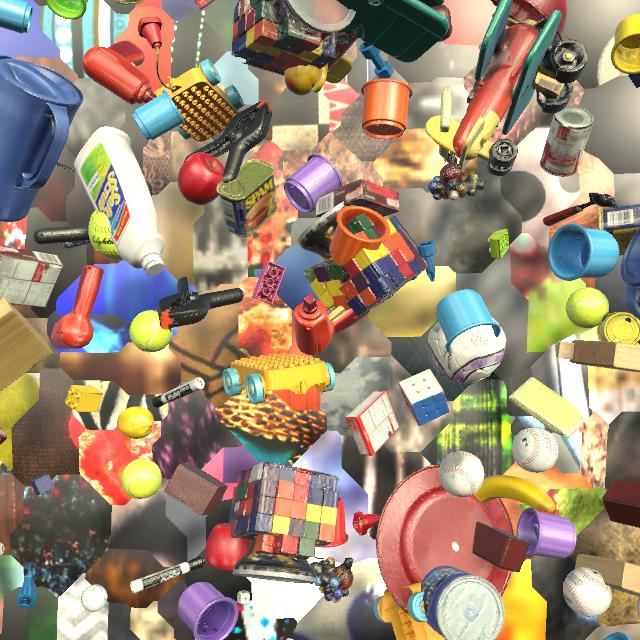ycb_002_master_chef_can: (421, 566, 505, 640)
ycb_005_tomato_soup_can: (540, 106, 594, 177)
ycb_008_pudding_box: (0, 245, 64, 307), (315, 179, 400, 217), (0, 427, 8, 444)
ycb_009_gelatin_box: (345, 390, 399, 456), (195, 0, 215, 10)
ycb_010_potted_meat_can: (216, 159, 277, 237), (598, 204, 640, 256), (114, 0, 144, 5)
ycb_011_banana: (474, 475, 555, 513)
ycb_013_apple: (178, 152, 225, 205), (205, 523, 250, 572)
ycb_014_lemon: (117, 406, 154, 439)
ycb_015_peach: (284, 65, 320, 95)
ycb_018_plum: (431, 4, 452, 42)
